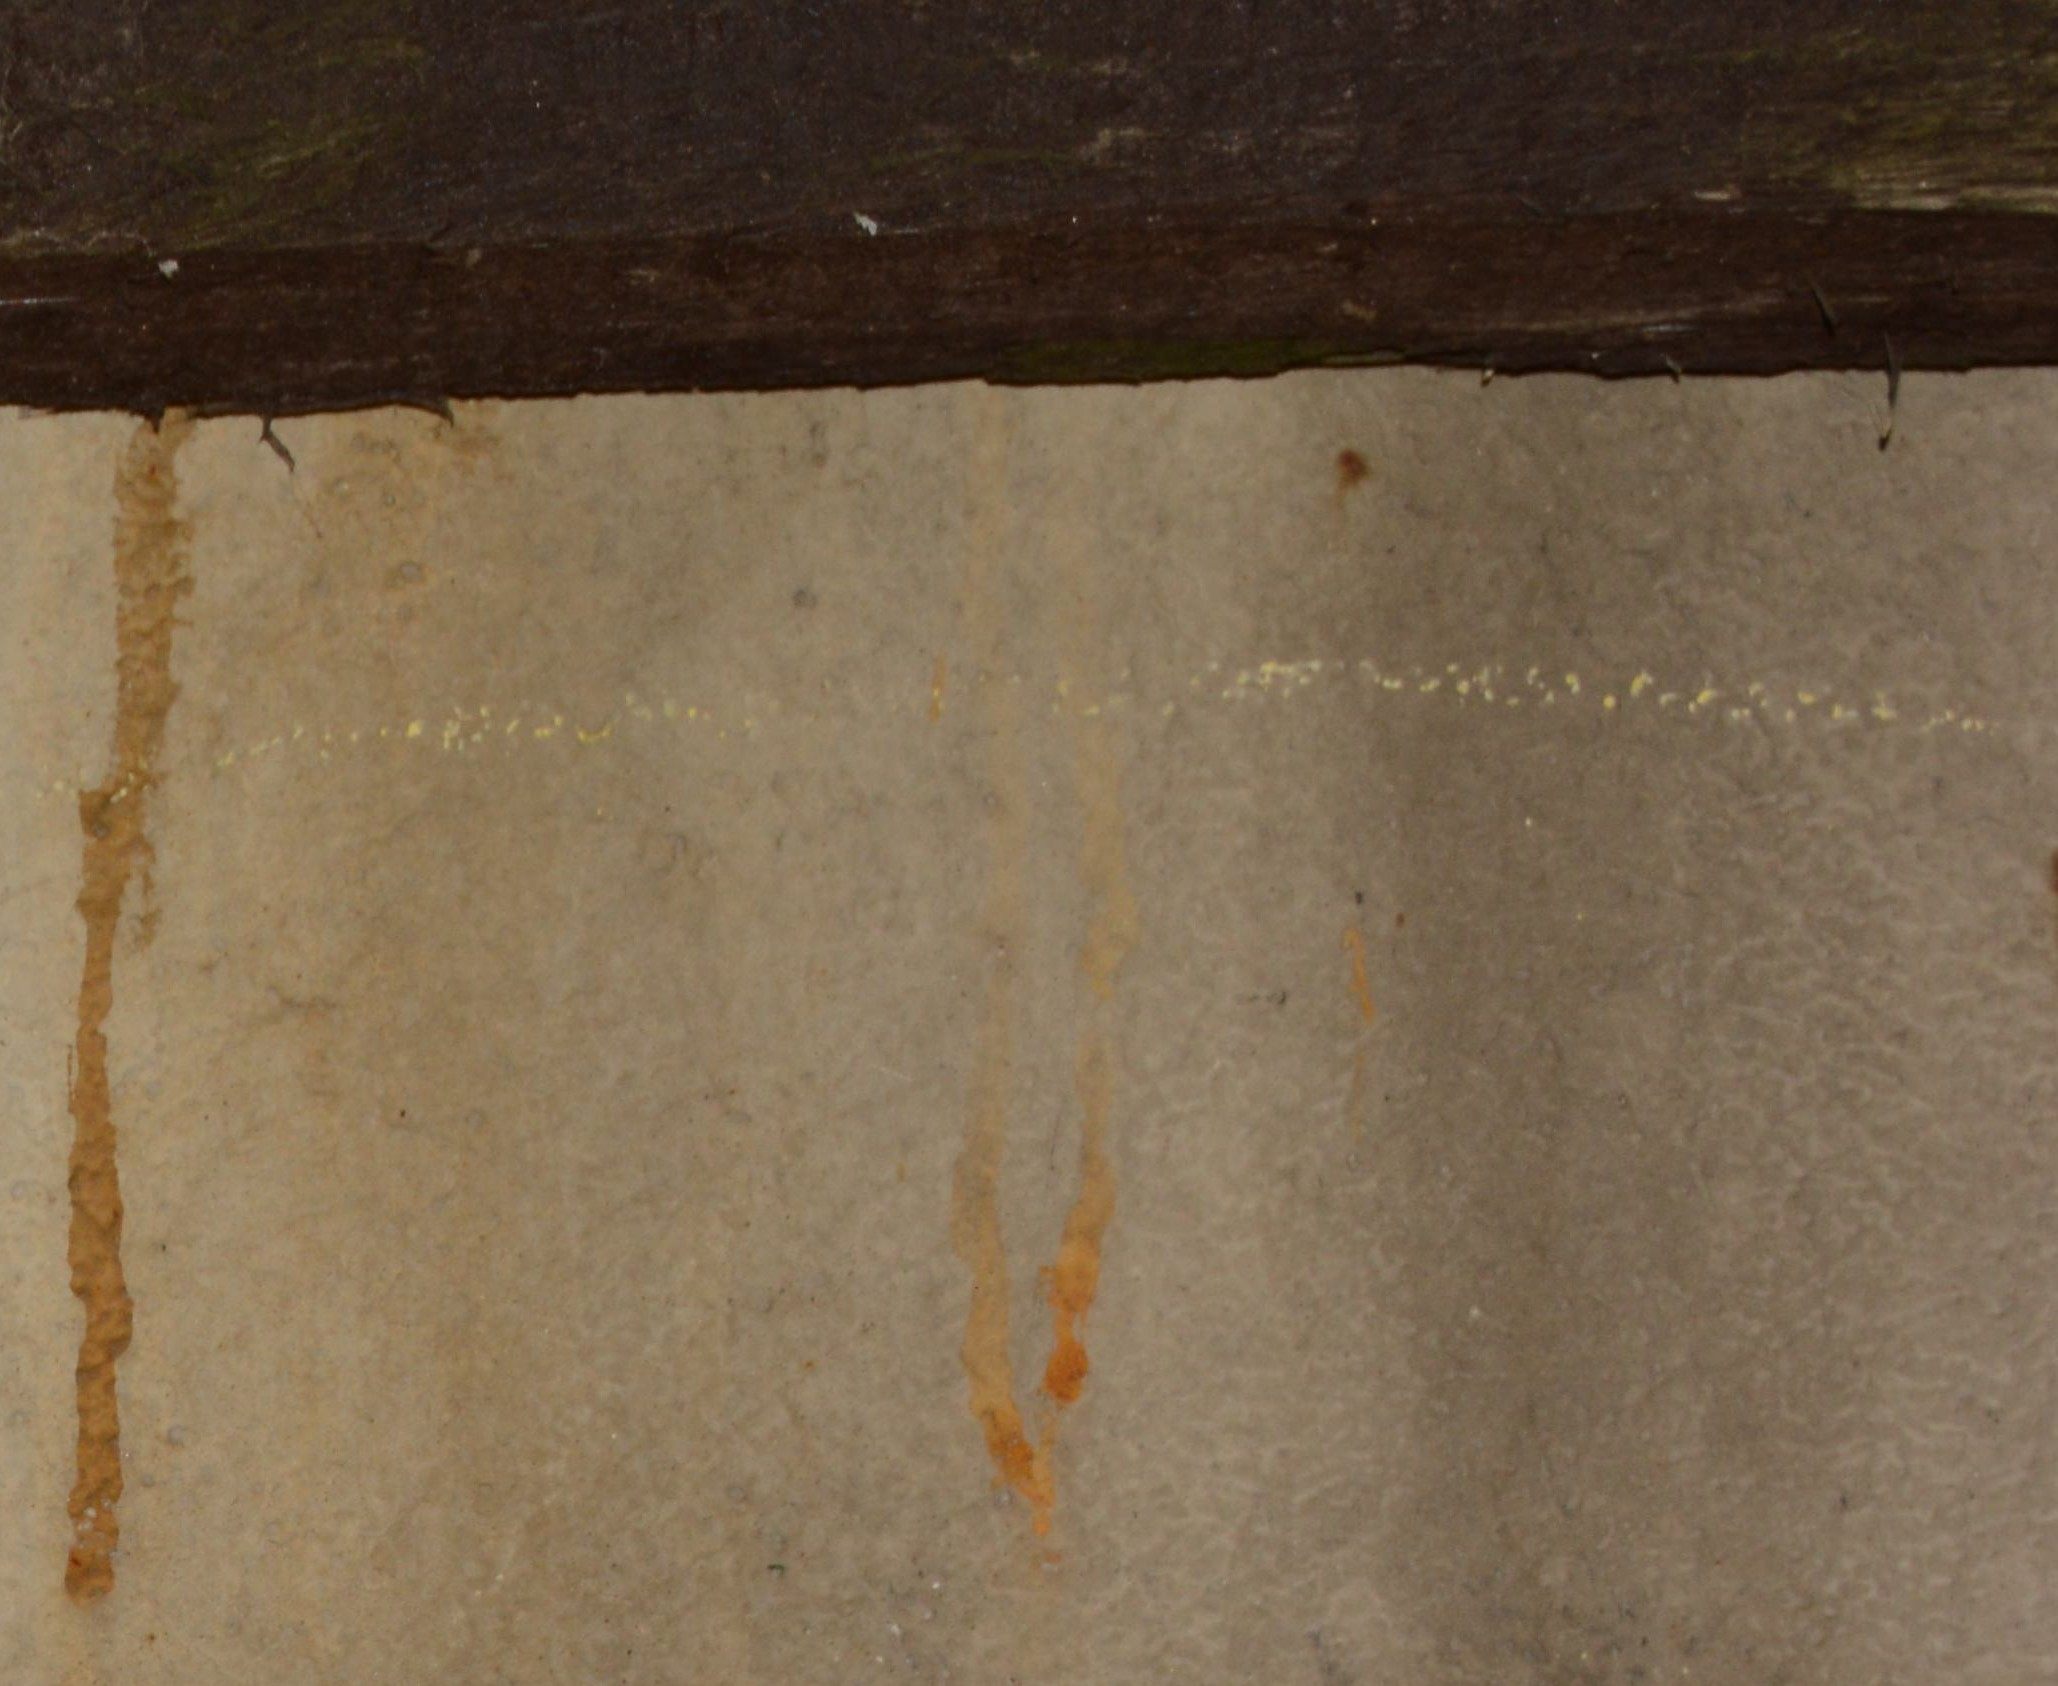Corrosion: (62, 421, 191, 1607), (957, 701, 1130, 1549)
